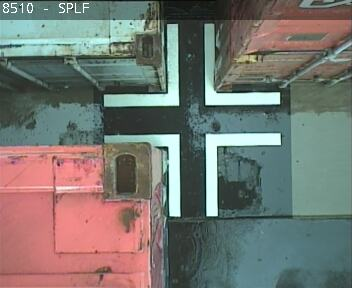groundmarker_1: (103, 132, 280, 215), (104, 24, 280, 107)
